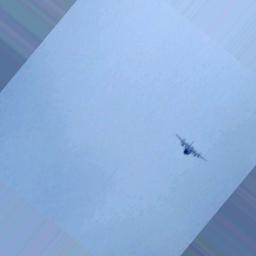Airplane: (174, 134, 208, 161)
